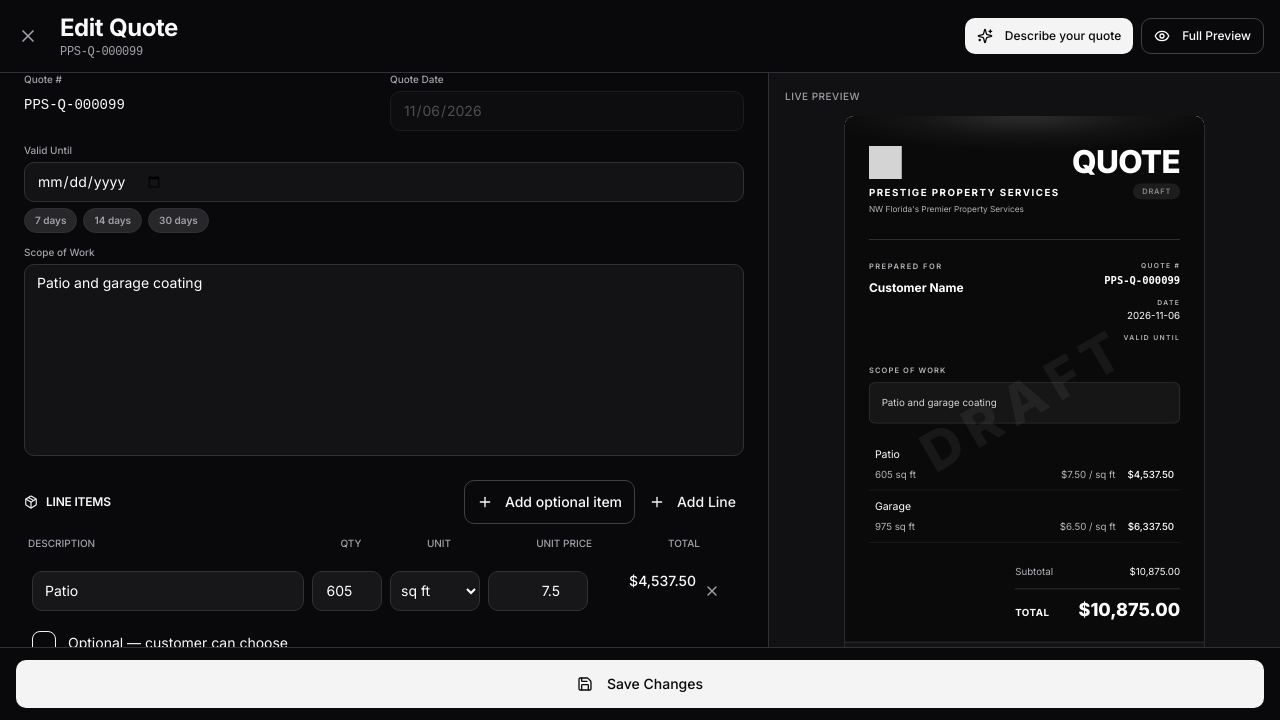
it: Unassigned draft customer selection › keeps a concurrency refusal visible and preserves unsaved scope
(page scrolled)
Replace the text in the text box labelled "Scope of Work" with "Patio revised scope" at [384, 360], box x1=24 y1=264 x2=744 y2=456
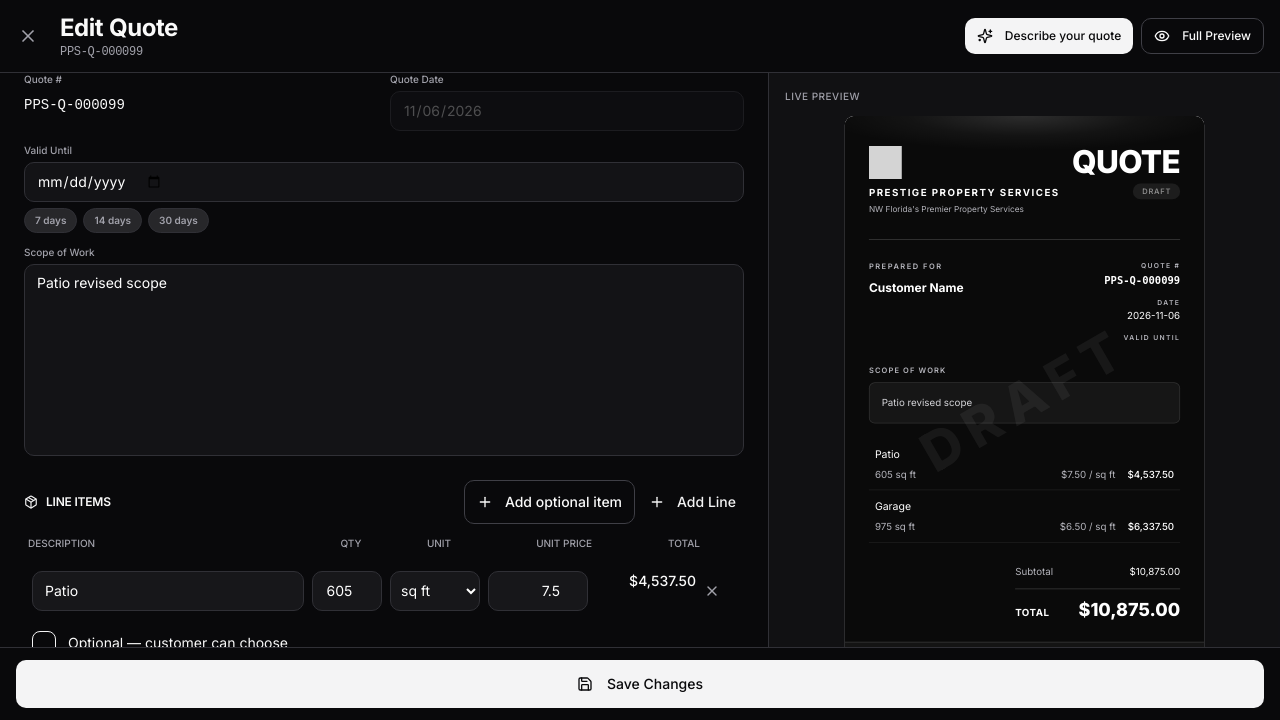
Click the button "Save Changes" at [640, 684], box x1=16 y1=660 x2=1264 y2=708
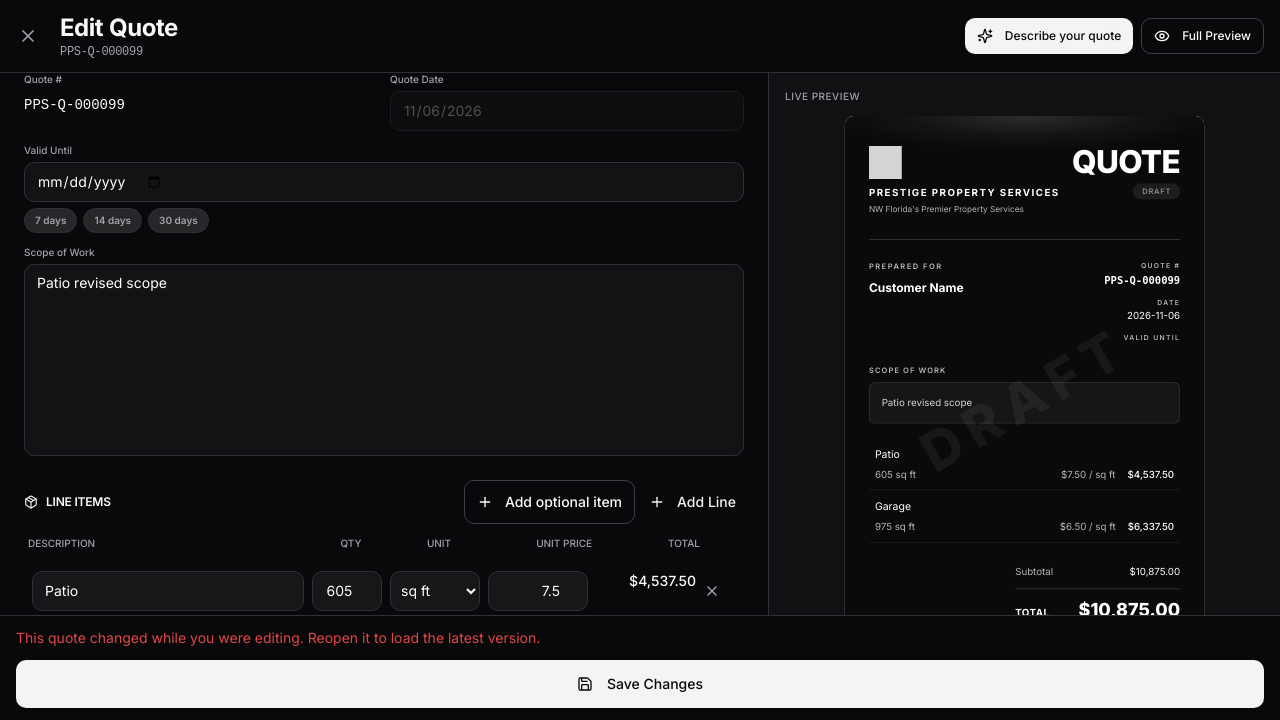
Expected: the message shows "Reopen it", x1=16 y1=629 x2=540 y2=646
